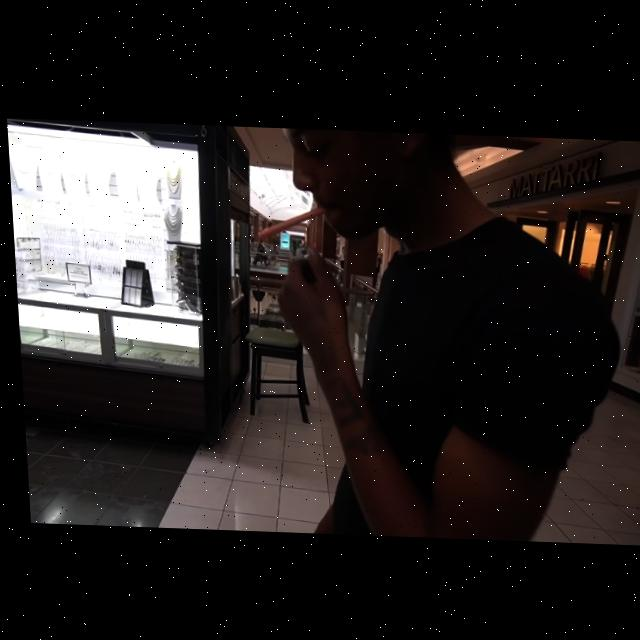vape: (251, 201, 325, 240)
